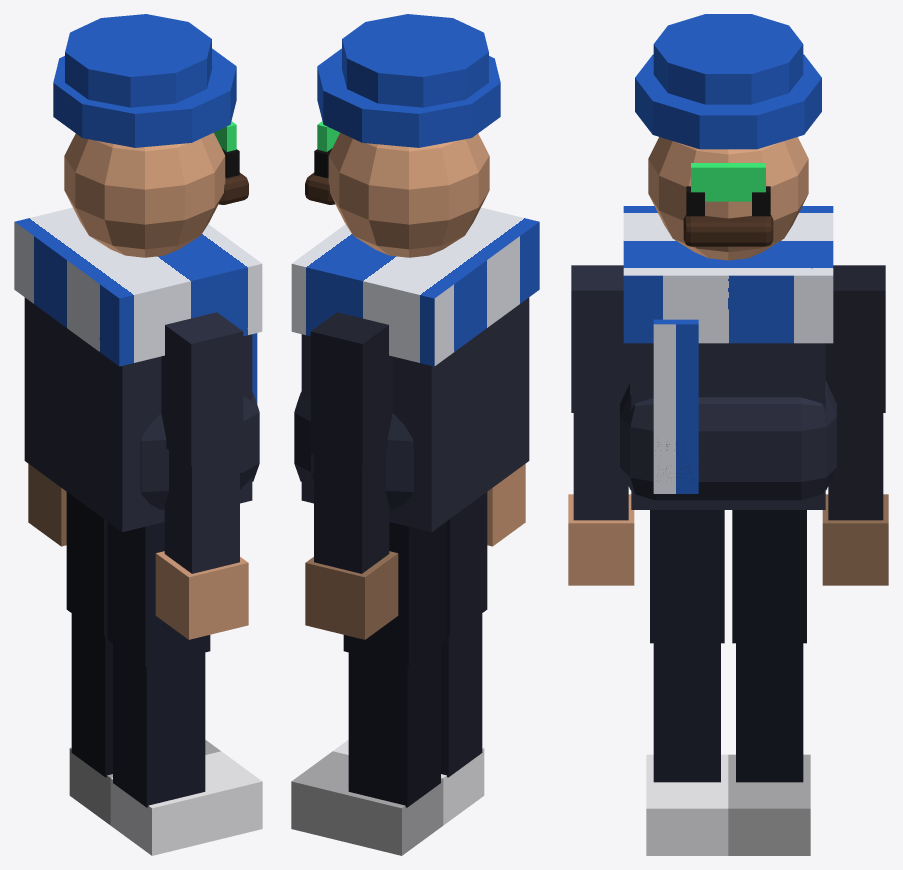
File: pnj_celui_du_stade.glb
The picture shows the model from 3 angles, left to right: view 1: azimuth 30°, elevation 25°; view 2: azimuth 150°, elevation 25°; view 3: azimuth 270°, elevation 25°; orthographic projection.
Visible parts, largest first — view 1: p_box.1726, p_box.1717, p_sph.444, p_box.1712, p_cyl.142, p_box.1718, p_box.1713, p_cyl.141, p_box.1711, p_box.1719, p_box.1720, p_box.1715 (+6 smaller); view 2: p_box.1726, p_box.1717, p_sph.444, p_box.1715, p_cyl.142, p_box.1721, p_box.1716, p_cyl.141, p_box.1714, p_box.1722, p_box.1723, p_box.1712 (+6 smaller); view 3: p_box.1726, p_rbox.171, p_cyl.142, p_box.1717, p_box.1714, p_box.1711, p_box.1715, p_box.1712, p_sph.444, p_cyl.141, p_box.1721, p_box.1718 (+9 smaller).
Part boxes in pixels (left/top/right/bottom): p_box.1726: left=14, top=207, right=262, bottom=366; p_box.1717: left=24, top=297, right=252, bottom=532; p_sph.444: left=64, top=132, right=225, bottom=257; p_box.1712: left=113, top=643, right=205, bottom=807; p_cyl.142: left=65, top=14, right=211, bottom=107; p_box.1718: left=161, top=312, right=243, bottom=466; p_box.1713: left=110, top=751, right=262, bottom=855; p_cyl.141: left=53, top=48, right=236, bottom=147; p_box.1711: left=107, top=522, right=210, bottom=666; p_box.1719: left=164, top=450, right=239, bottom=573; p_box.1720: left=155, top=551, right=248, bottom=639; p_box.1715: left=71, top=613, right=112, bottom=777; p_box.1726: left=291, top=207, right=539, bottom=366; p_box.1717: left=301, top=297, right=529, bottom=532; p_sph.444: left=328, top=132, right=489, bottom=257; p_box.1715: left=348, top=643, right=440, bottom=807; p_cyl.142: left=342, top=14, right=488, bottom=107; p_box.1721: left=310, top=312, right=392, bottom=466; p_box.1716: left=291, top=751, right=443, bottom=855; p_cyl.141: left=317, top=48, right=500, bottom=147; p_box.1714: left=343, top=522, right=446, bottom=666; p_box.1722: left=314, top=450, right=389, bottom=573; p_box.1723: left=305, top=551, right=398, bottom=639; p_box.1712: left=441, top=613, right=482, bottom=777; p_box.1726: left=623, top=206, right=833, bottom=343; p_rbox.171: left=620, top=381, right=836, bottom=500; p_cyl.142: left=653, top=14, right=803, bottom=104; p_box.1717: left=631, top=343, right=825, bottom=509; p_box.1714: left=732, top=510, right=806, bottom=643; p_box.1711: left=650, top=510, right=724, bottom=643; p_box.1715: left=736, top=643, right=803, bottom=782; p_box.1712: left=653, top=643, right=720, bottom=782; p_sph.444: left=648, top=137, right=808, bottom=260; p_cyl.141: left=635, top=54, right=821, bottom=149; p_box.1721: left=825, top=265, right=885, bottom=412; p_box.1718: left=571, top=265, right=631, bottom=412.
Bounding box in the file's own units: 0.5 × 2.28 × 0.856.
Materials: 13 (1 with a texture image).
